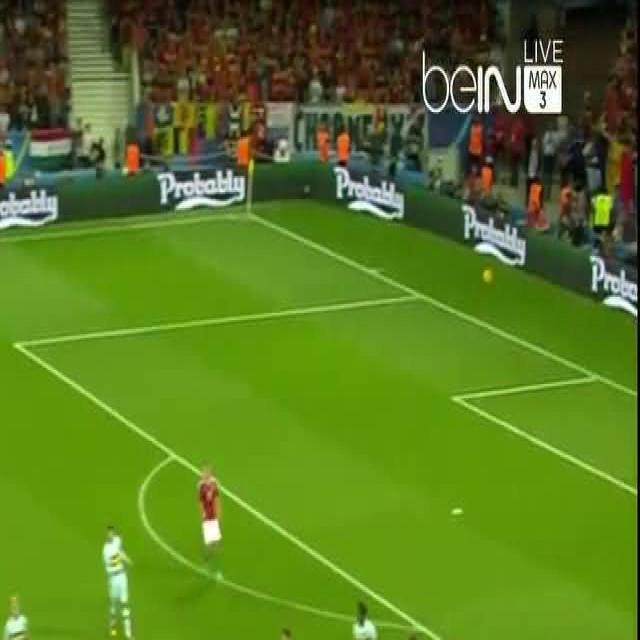ball: (483, 268, 493, 284)
player-white: (102, 522, 132, 640), (199, 465, 223, 582), (348, 601, 382, 640), (3, 593, 31, 640), (272, 629, 303, 640), (400, 636, 428, 640)
